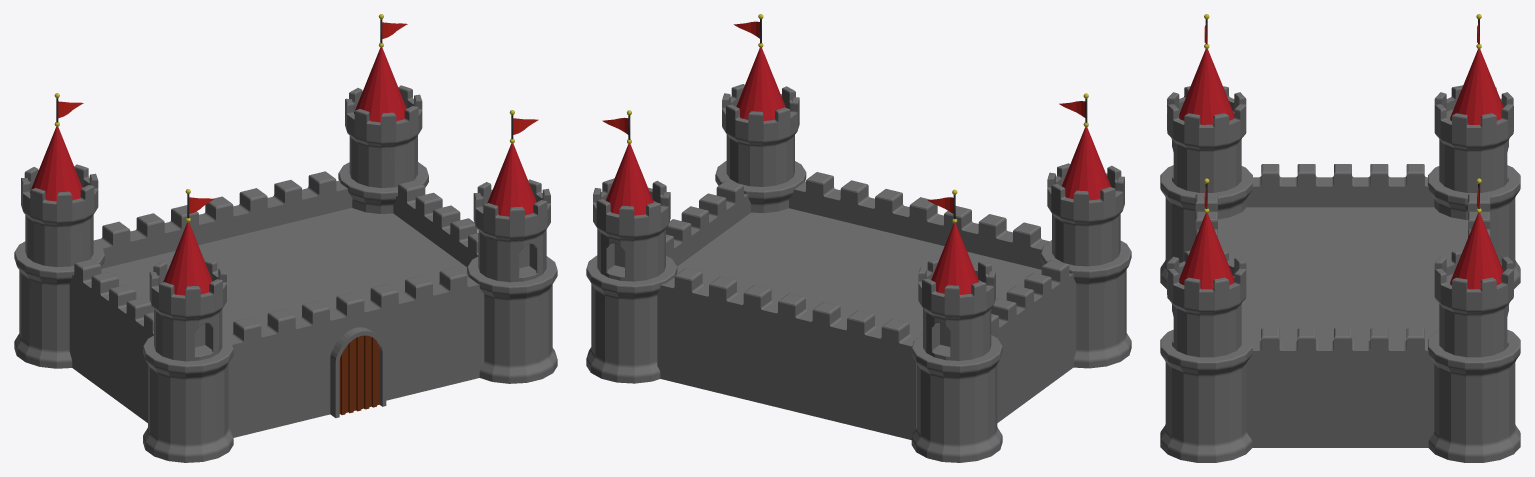
Rendered from Castle 1.fbx.
The picture shows the model from 3 angles, left to right: view 1: azimuth 30°, elevation 25°; view 2: azimuth 150°, elevation 25°; view 3: azimuth 270°, elevation 25°; orthographic projection. The views are drawn at different scales.
Parts seen in each view (by area): view 1: Castle; view 2: Castle; view 3: Castle.
Part boxes in pixels (x1=…): Castle: x1=14, y1=14, x2=557, y2=462; Castle: x1=586, y1=14, x2=1131, y2=462; Castle: x1=1160, y1=14, x2=1520, y2=462.
Size of the model in its own units: 4334 by 2628 by 3240.
